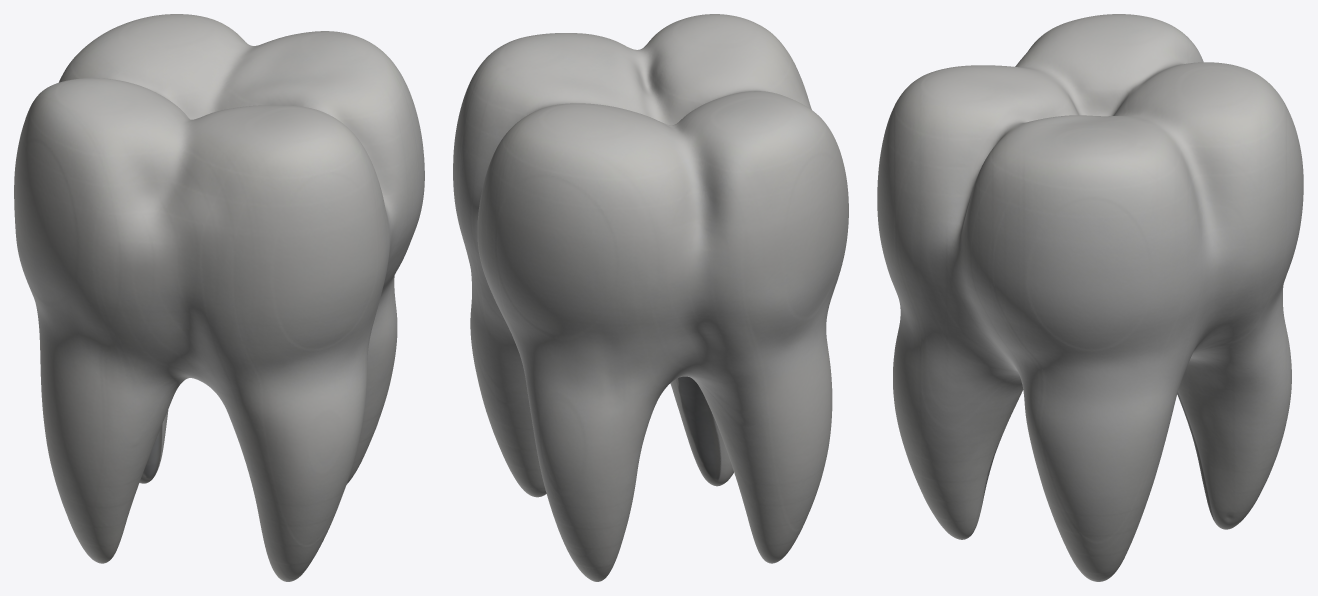
The model's file is tooth 3d model.glb.
3 views of the same model, side by side, from view 1: azimuth 30°, elevation 25°; view 2: azimuth 150°, elevation 25°; view 3: azimuth 270°, elevation 25° (orthographic).
Parts seen in each view (by area): view 1: tripo_node_ef385b6b-2cbe-4002-a1dc-b8396351053c; view 2: tripo_node_ef385b6b-2cbe-4002-a1dc-b8396351053c; view 3: tripo_node_ef385b6b-2cbe-4002-a1dc-b8396351053c.
Part boxes in pixels (<box>): tripo_node_ef385b6b-2cbe-4002-a1dc-b8396351053c: <box>14,14,424,581</box>; tripo_node_ef385b6b-2cbe-4002-a1dc-b8396351053c: <box>453,14,848,581</box>; tripo_node_ef385b6b-2cbe-4002-a1dc-b8396351053c: <box>877,14,1303,581</box>.
Bounding box in the file's own units: 0.8291 × 1 × 0.8426.
Materials: 1 (1 with a texture image).
